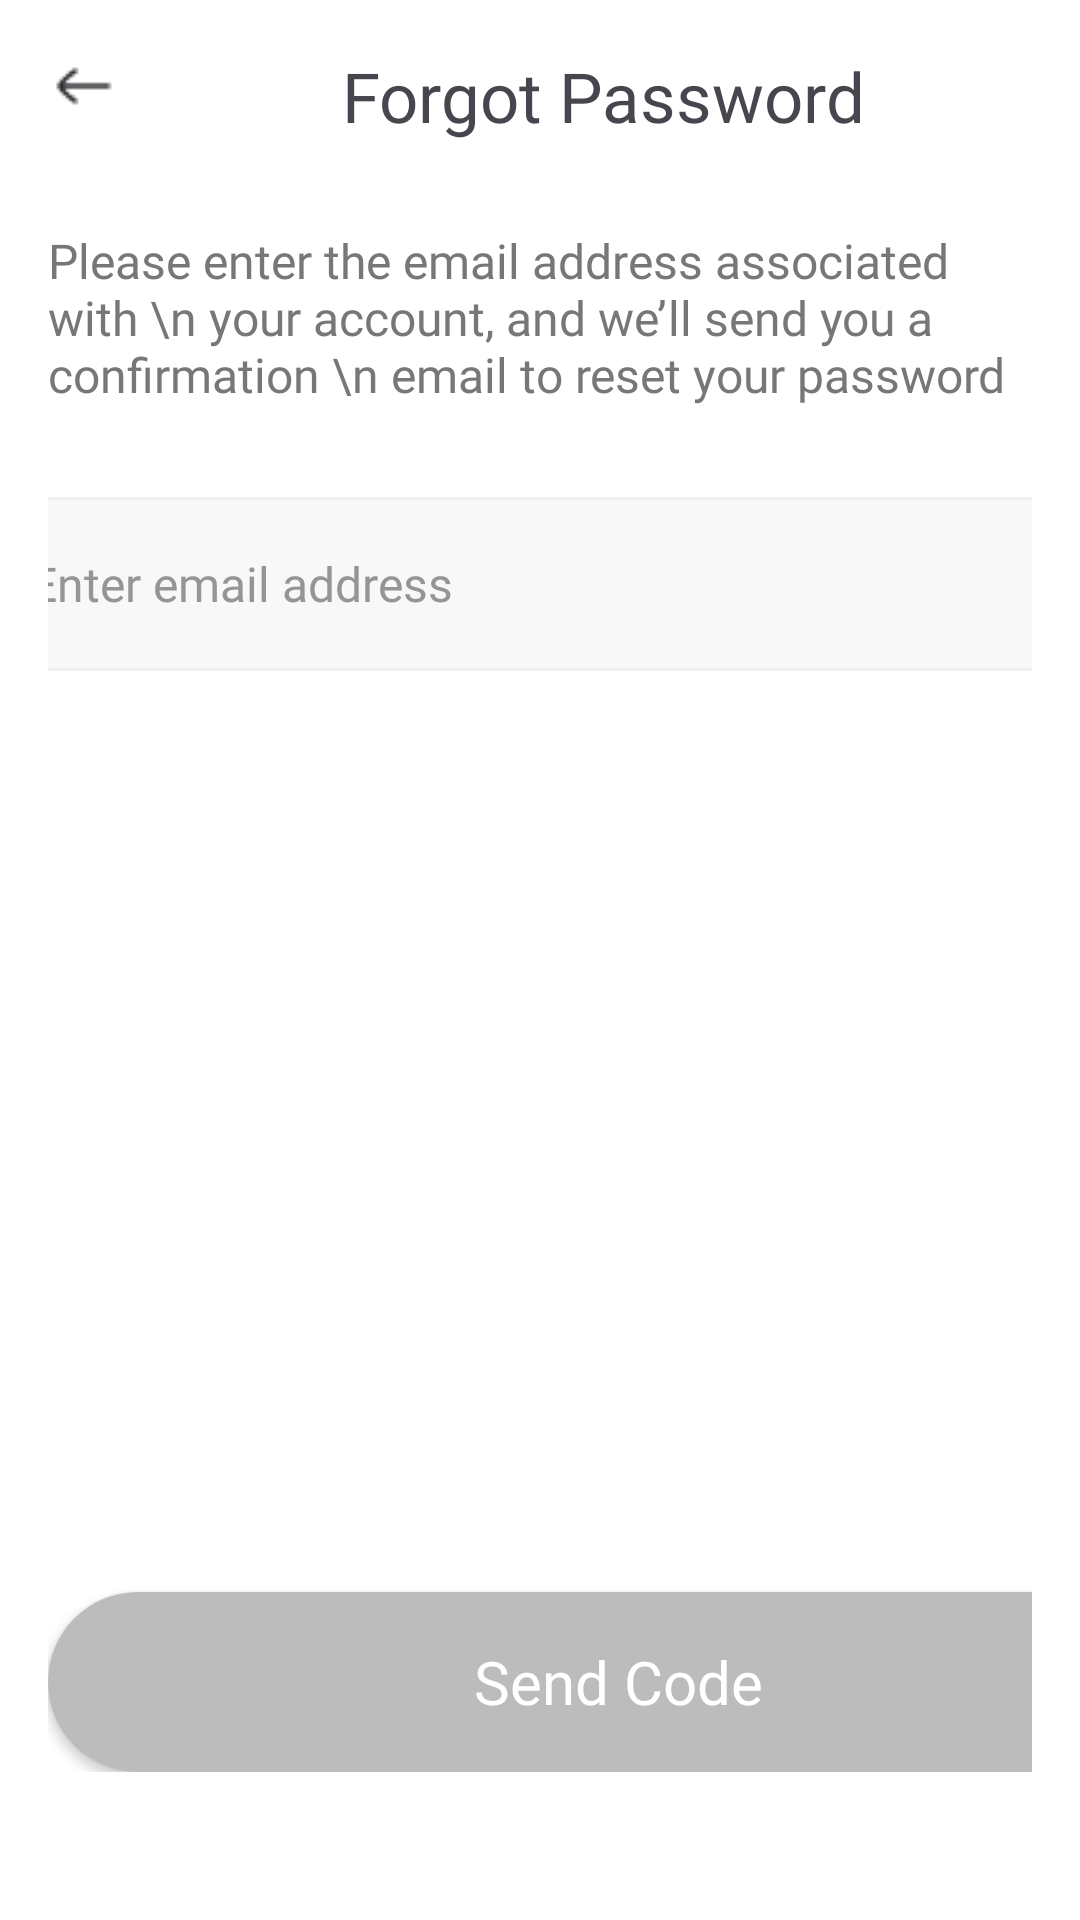

Where icons sit on this 1080px x 1920px app screen, as (x1, y1, x2, y2):
arrow left: (56, 67, 112, 105)
